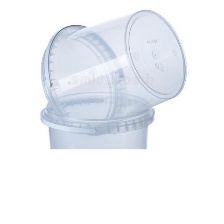plastic_box: (34, 4, 194, 138), (35, 86, 161, 148)
